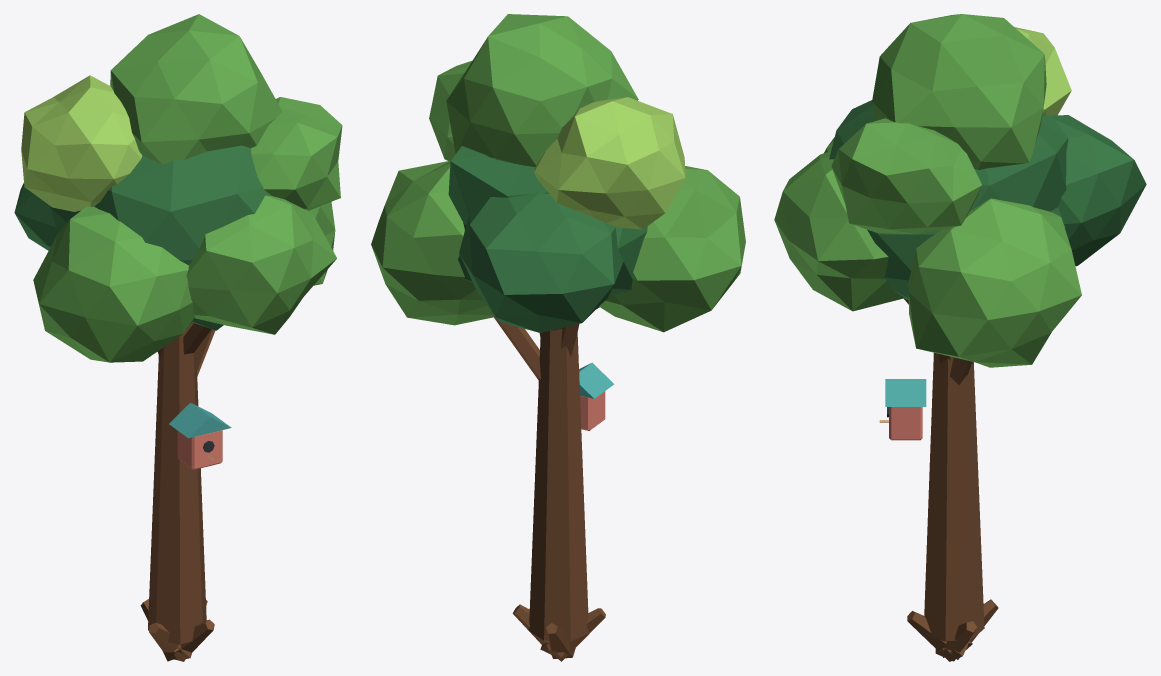
The model's file is round_tree.glb.
The picture shows the model from 3 angles, left to right: view 1: azimuth 30°, elevation 25°; view 2: azimuth 150°, elevation 25°; view 3: azimuth 270°, elevation 25°; orthographic projection. The views are drawn at different scales.
Parts seen in each view (by area): view 1: Round Tree; view 2: Round Tree; view 3: Round Tree.
Boxes of the visible parts, left/top/right/bottom form: Round Tree: left=14, top=14, right=342, bottom=661; Round Tree: left=371, top=14, right=745, bottom=661; Round Tree: left=774, top=14, right=1146, bottom=661.
Size of the model in its own units: 2.06 by 3.85 by 1.99.
1 material, 1 textured.
